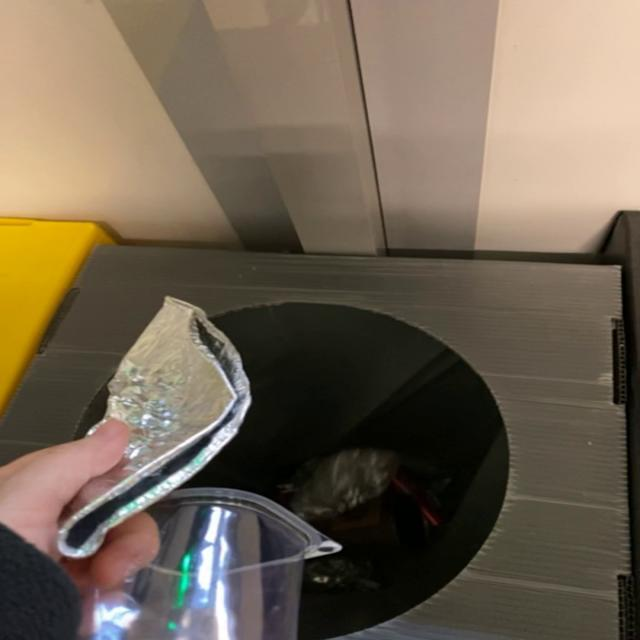bin: (1, 246, 632, 640)
metal: (56, 297, 249, 559), (290, 449, 398, 521)
